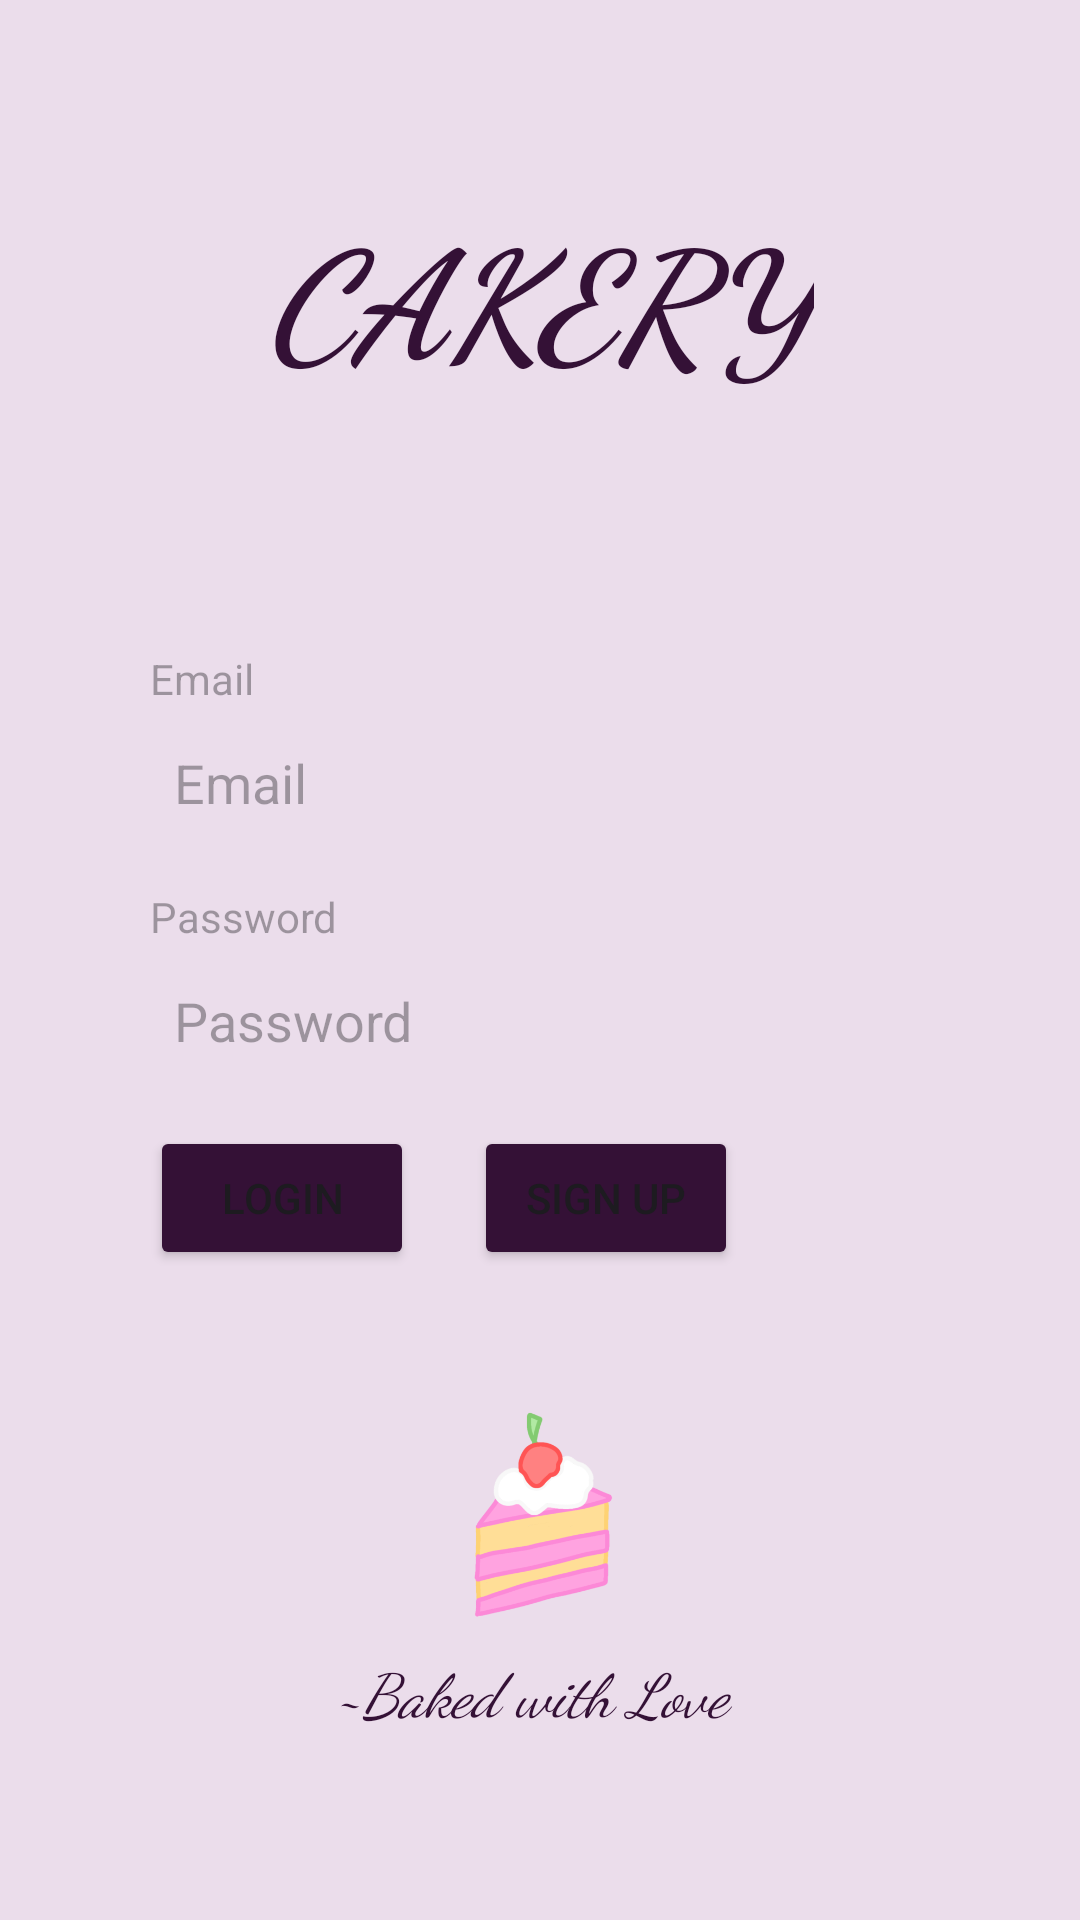

Locate icon controls on the screen. Image size 1080px×1920px, boxes as (x1, y1, x2, y2).
cake: (474, 1413, 612, 1617)
